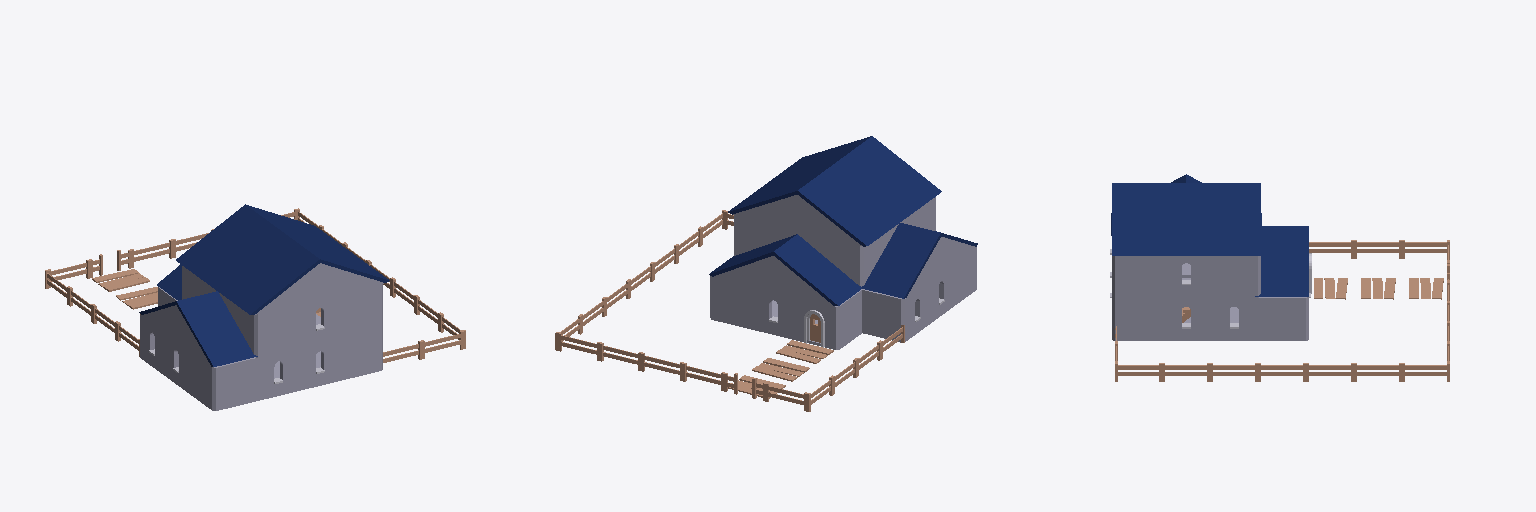
The model's file is House1.obj.
3 renders of one model, left to right at view 1: azimuth 30°, elevation 25°; view 2: azimuth 150°, elevation 25°; view 3: azimuth 270°, elevation 25°, orthographic.
Bounding box in the file's own units: 6.16 × 2.92 × 7.09.